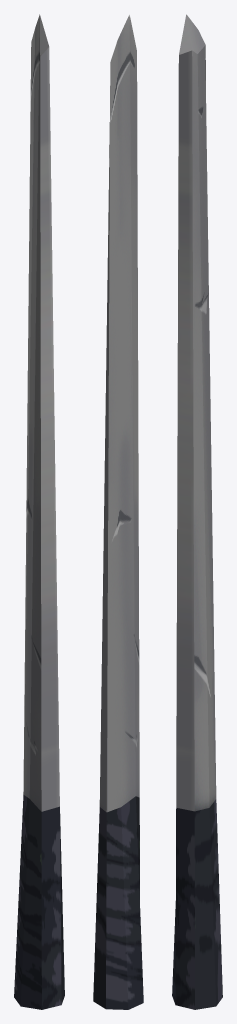
The model's file is Sword_Main.fbx.
3 views of the same model, side by side, from view 1: azimuth 30°, elevation 25°; view 2: azimuth 150°, elevation 25°; view 3: azimuth 330°, elevation 25° (orthographic).
Parts seen in each view (by area): view 1: Cylinder; view 2: Cylinder; view 3: Cylinder.
Boxes of the visible parts, x1,y1,x2,y2 form: Cylinder: (14, 14, 64, 1009); Cylinder: (93, 14, 143, 1009); Cylinder: (172, 14, 222, 1009).
Size of the model in its own units: 9.75 by 208 by 9.5.
1 material, 1 textured.
